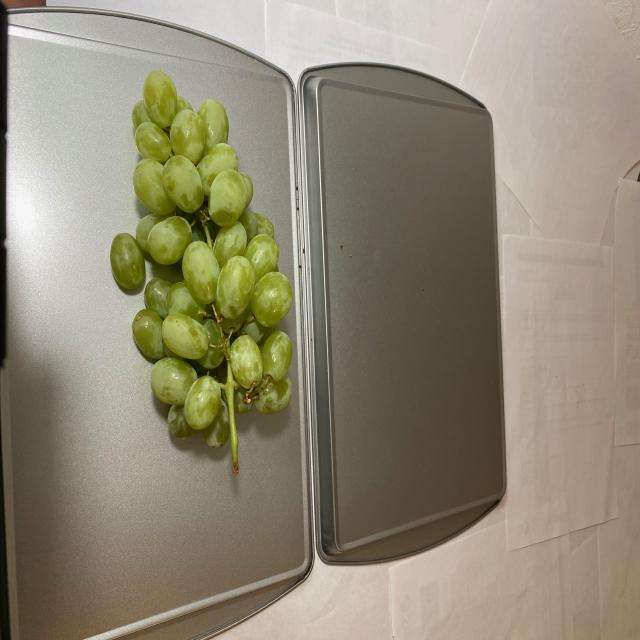grapes: (110, 71, 293, 484)
